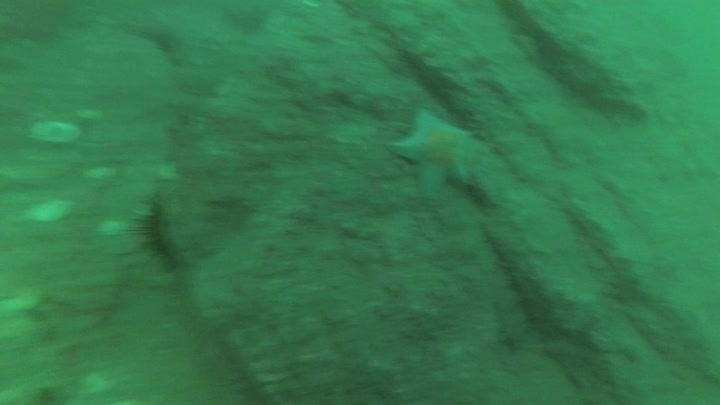echinus: (131, 193, 184, 272)
scallop: (27, 114, 82, 148)
starfish: (385, 105, 482, 199)
